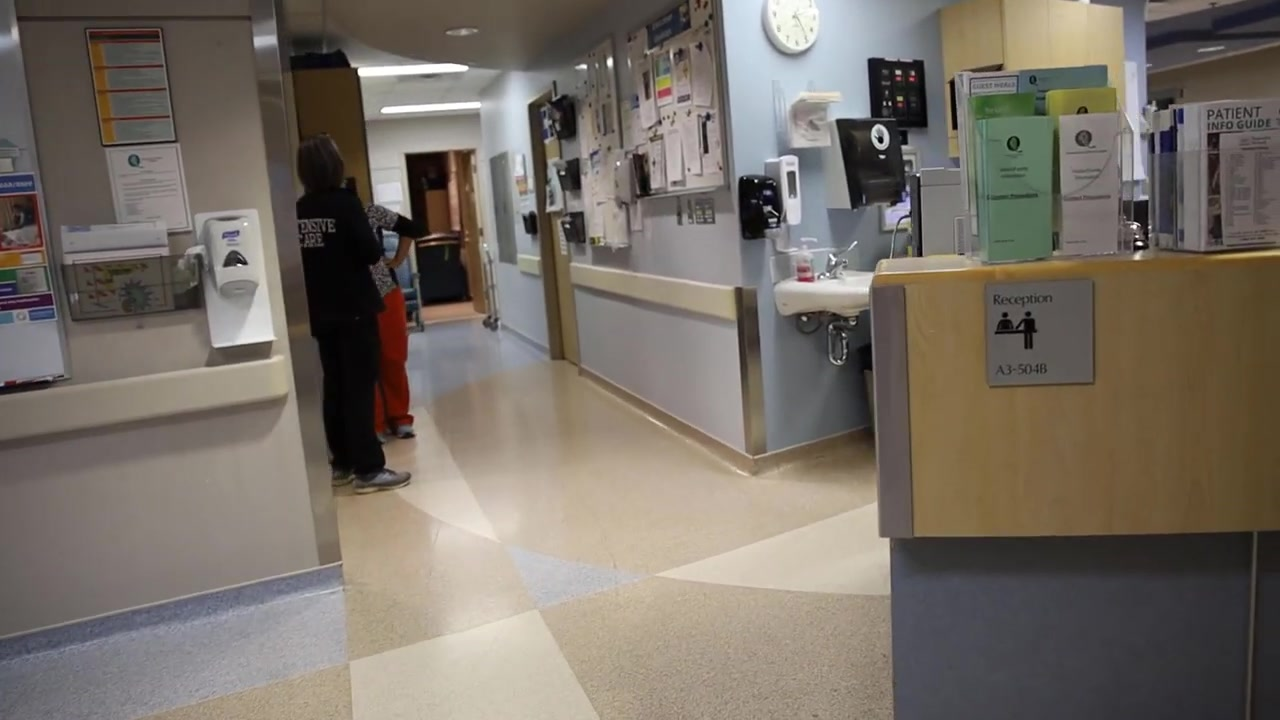cabinet: (938, 1, 1126, 140)
counter: (875, 250, 1280, 720)
countertop: (871, 247, 1279, 294)
dispenser: (194, 209, 277, 349), (823, 117, 904, 210), (739, 173, 782, 240), (765, 155, 802, 225), (610, 158, 637, 208), (796, 236, 818, 282)
faucet: (831, 239, 859, 277)
hallway_assist_bar: (1, 351, 296, 449), (570, 261, 732, 313)
person: (297, 135, 412, 494), (366, 202, 425, 442)
sink: (774, 270, 877, 316)
